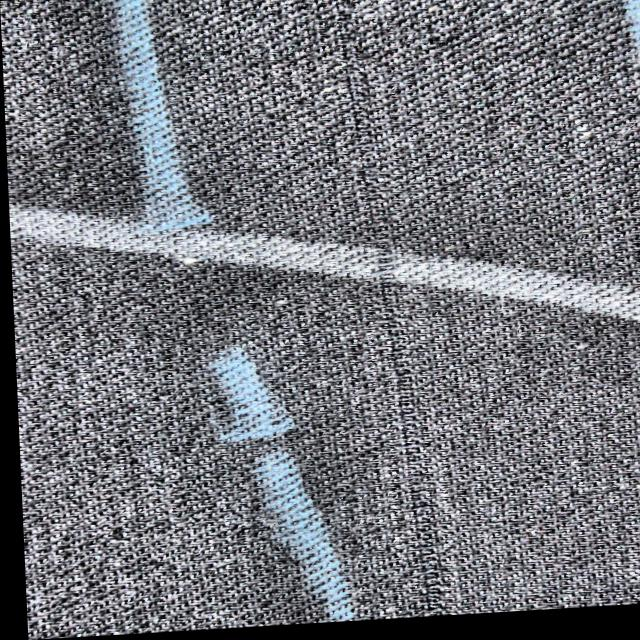Hole: (340, 44, 445, 622)
